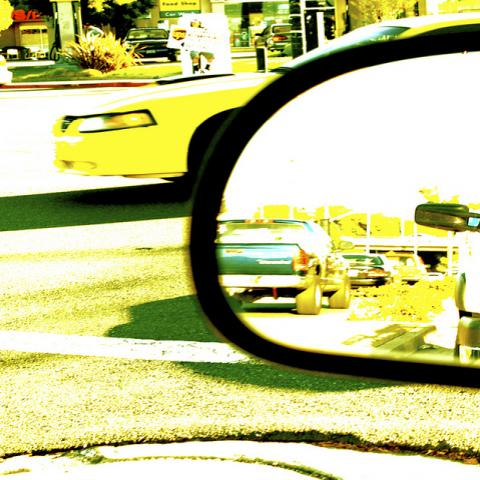car: (52, 11, 475, 181), (122, 27, 180, 63), (343, 253, 392, 288), (253, 22, 292, 50)
truck: (213, 220, 356, 312), (379, 251, 429, 281)
